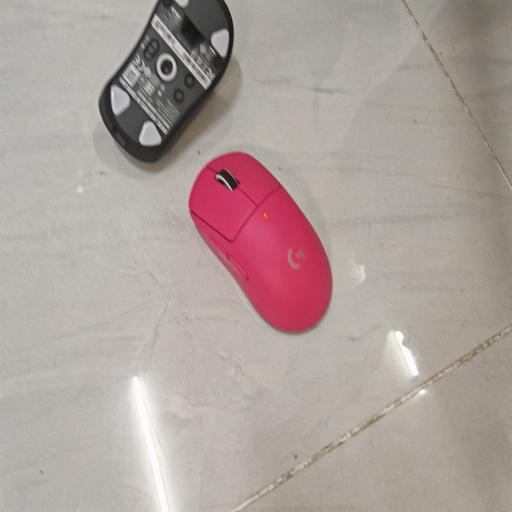mouse: (189, 152, 332, 332), (97, 0, 236, 166)
